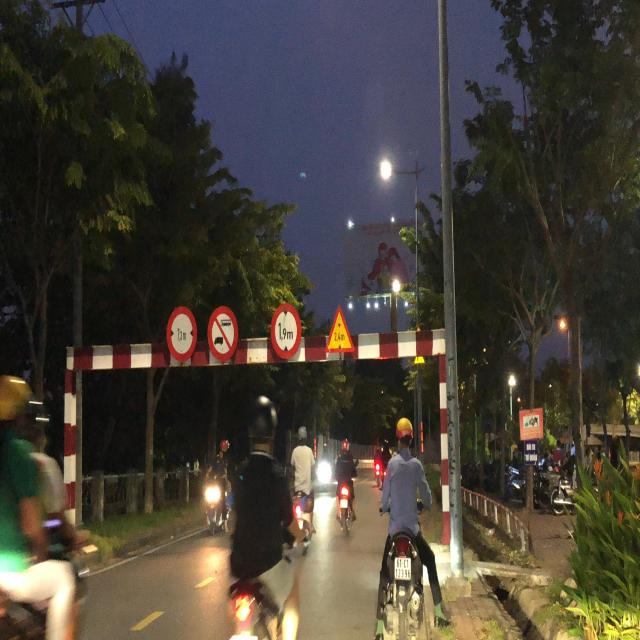Bien bao cam xe oto khach va xe oto tai: (208, 302, 240, 366)
Bien bao chieu cao tinh khong thuc te: (323, 302, 360, 357)
Bien bao han che chieu cao: (270, 298, 305, 362)
